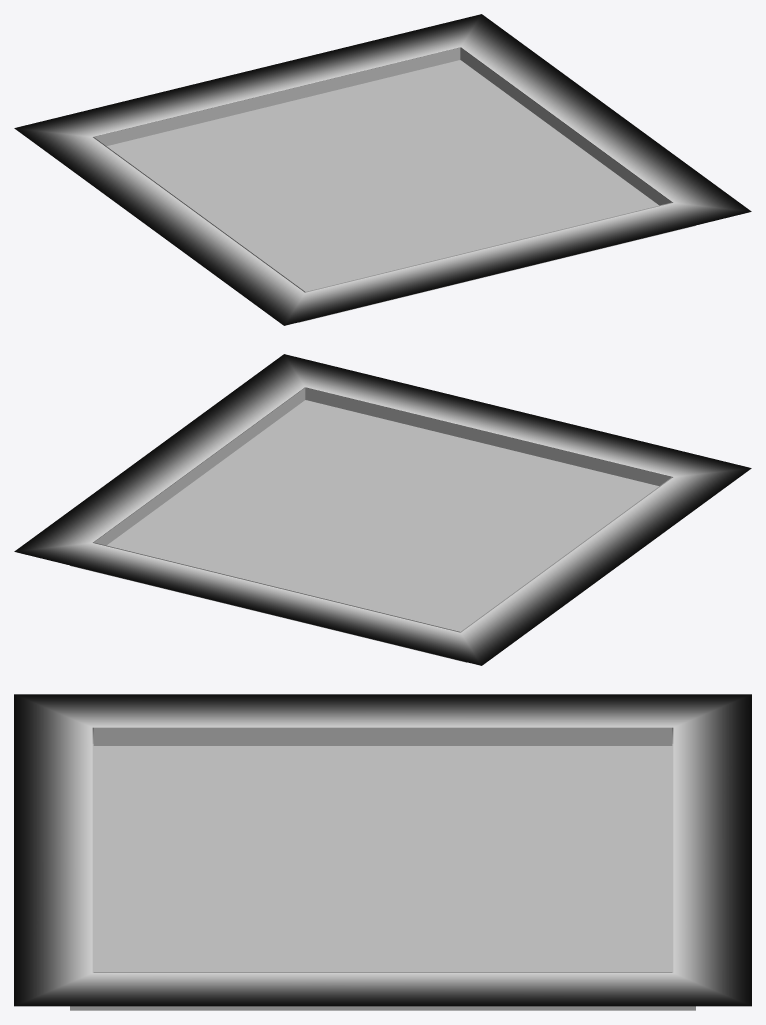
The model's file is CeilingCenter02_4.FBX.
3 views of the same model, one above another, from view 1: azimuth 30°, elevation 25°; view 2: azimuth 150°, elevation 25°; view 3: azimuth 270°, elevation 25° (orthographic). The views are drawn at different scales.
Visible parts, largest first — view 1: Ceiling, Backlight; view 2: Ceiling, Backlight; view 3: Ceiling, Backlight.
Part boxes in pixels (x1,y1,x2,y2): Ceiling: (93,47,695,322); Backlight: (14,14,751,325); Ceiling: (70,387,672,662); Backlight: (14,354,751,665); Ceiling: (70,727,695,1010); Backlight: (14,694,751,1006).
Bounding box in the file's own units: 589 × 26.5 × 589.
